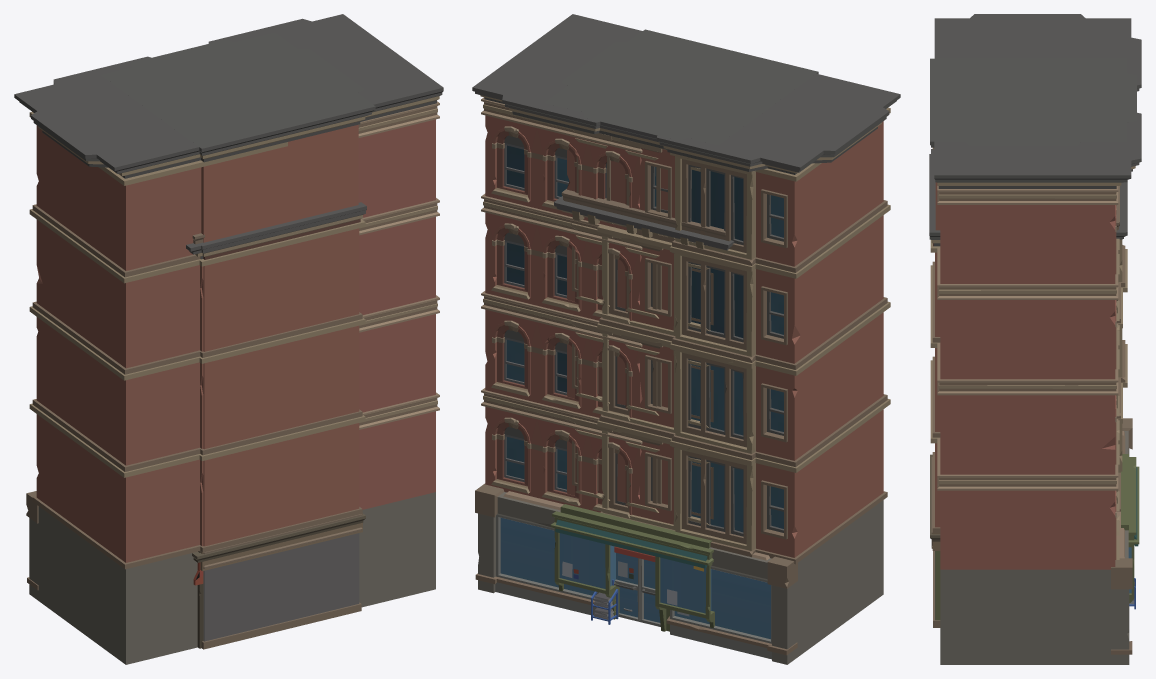
File: buildings.glb
3 renders of one model, left to right at view 1: azimuth 30°, elevation 25°; view 2: azimuth 150°, elevation 25°; view 3: azimuth 270°, elevation 25°, orthographic. The views are drawn at different scales.
Parts seen in each view (by area): view 1: SM3D_Bld_Mixed_Double_5fl, SM3D_Bld_Mixed_4fl, SM3D_Bld_Mixed_5fl, SM3D_Bld_Mixed_Corner_4fl, SM3D_Bld_Mixed_4fl_2; view 2: SM3D_Bld_Mixed_Double_5fl, SM3D_Bld_Mixed_5fl, SM3D_Bld_Mixed_4fl_2, SM3D_Bld_Mixed_Corner_4fl, SM3D_Bld_Mixed_4fl; view 3: SM3D_Bld_Mixed_Double_5fl, SM3D_Bld_Mixed_5fl, SM3D_Bld_Mixed_4fl_2, SM3D_Bld_Mixed_Corner_4fl, SM3D_Bld_Mixed_4fl.
Part boxes in pixels (x1,y1,x2,y2): SM3D_Bld_Mixed_Double_5fl: (14,14,443,664); SM3D_Bld_Mixed_4fl: (201,210,365,649); SM3D_Bld_Mixed_5fl: (101,33,375,641); SM3D_Bld_Mixed_Corner_4fl: (186,202,365,648); SM3D_Bld_Mixed_4fl_2: (201,202,366,250); SM3D_Bld_Mixed_Double_5fl: (472,14,900,664); SM3D_Bld_Mixed_5fl: (545,29,818,611); SM3D_Bld_Mixed_4fl_2: (550,189,720,631); SM3D_Bld_Mixed_Corner_4fl: (554,193,734,561); SM3D_Bld_Mixed_4fl: (571,221,674,624); SM3D_Bld_Mixed_Double_5fl: (934,14,1141,664); SM3D_Bld_Mixed_5fl: (930,58,1138,550); SM3D_Bld_Mixed_4fl_2: (929,154,1139,620); SM3D_Bld_Mixed_Corner_4fl: (930,149,1127,541); SM3D_Bld_Mixed_4fl: (929,236,1135,627).
Size of the model in its own units: 10.9 by 15.5 by 6.05.
1 material, 1 textured.
